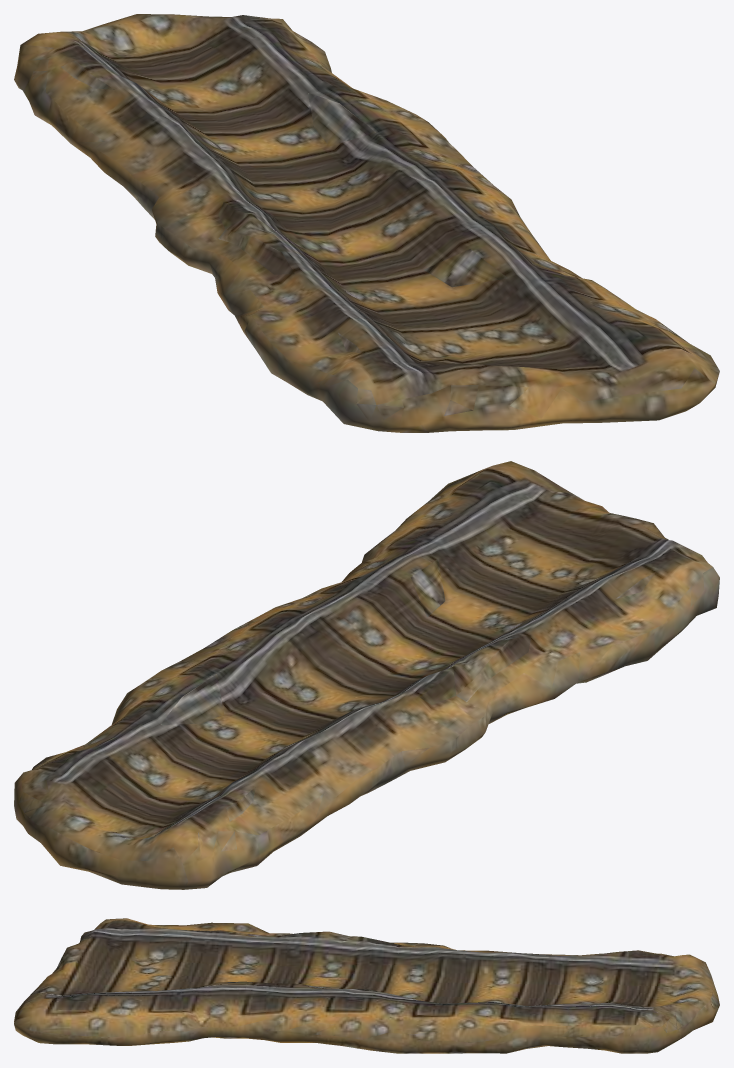
The model's file is mt_trilho.glb.
The picture shows the model from 3 angles, top to bottom: view 1: azimuth 30°, elevation 25°; view 2: azimuth 150°, elevation 25°; view 3: azimuth 270°, elevation 25°; orthographic projection. The views are drawn at different scales.
Parts seen in each view (by area): view 1: Mesh_0.019; view 2: Mesh_0.019; view 3: Mesh_0.019.
Part boxes in pixels (x1,y1,x2,y2): Mesh_0.019: (14, 14, 719, 432); Mesh_0.019: (14, 461, 719, 889); Mesh_0.019: (14, 918, 719, 1053).
Size of the model in its own units: 0.1504 by 0.0239 by 0.3896.
1 material, 1 textured.
